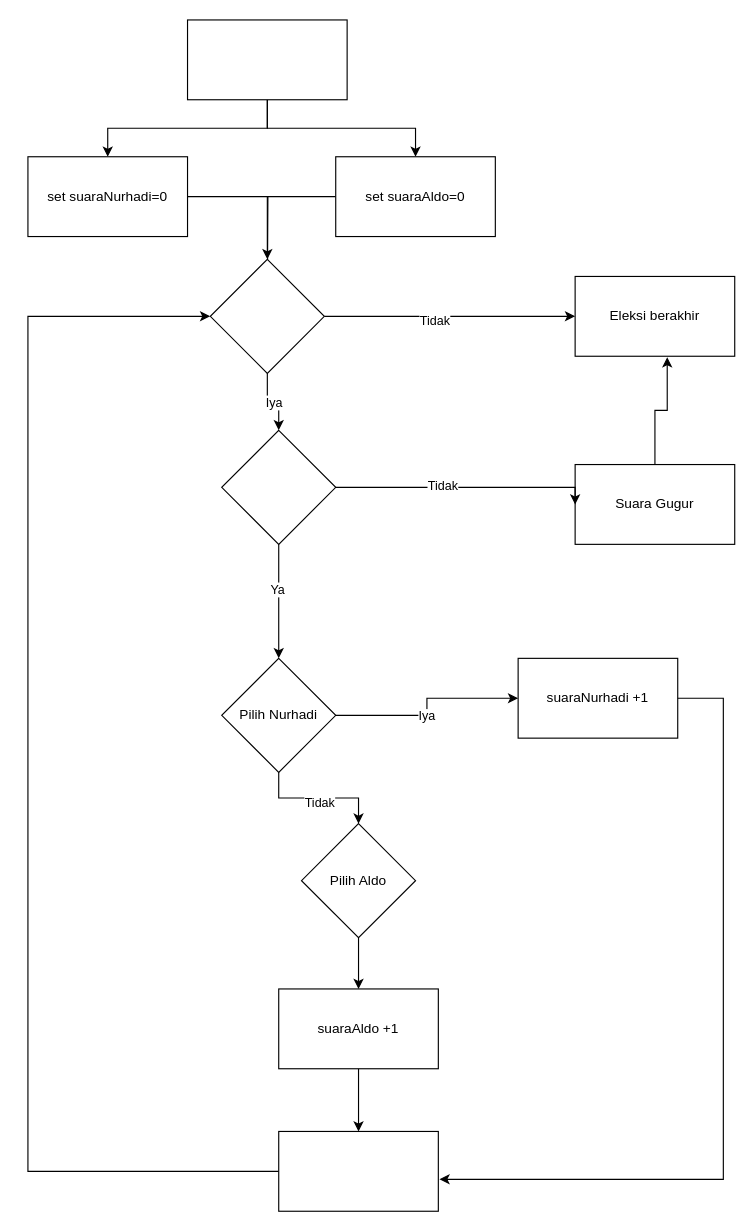
The diagram is 755 pixels wide and 1231 high, and some of its shapes have lost their labels. Each missing label, with the box of its shape:
berhitungUlang: (278, 1130, 438, 1211)
masaEleksi: (221, 429, 336, 544)
start: (186, 19, 347, 100)
suaraTersedia: (209, 258, 324, 373)
